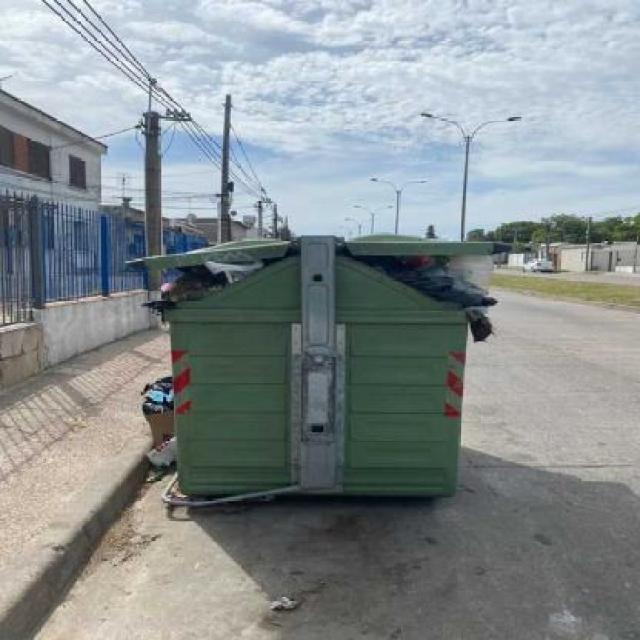garbage: (371, 251, 494, 312), (115, 360, 174, 482), (154, 265, 231, 288)
